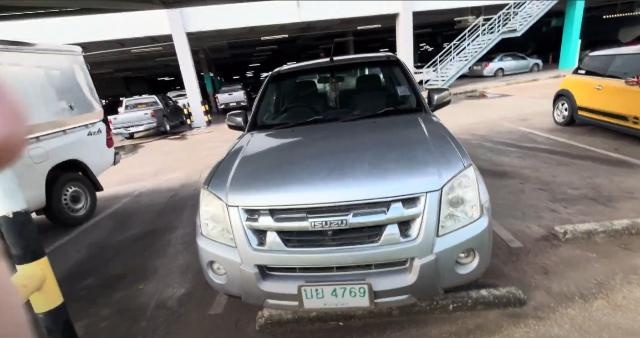pickup-truck: (198, 50, 495, 313)
